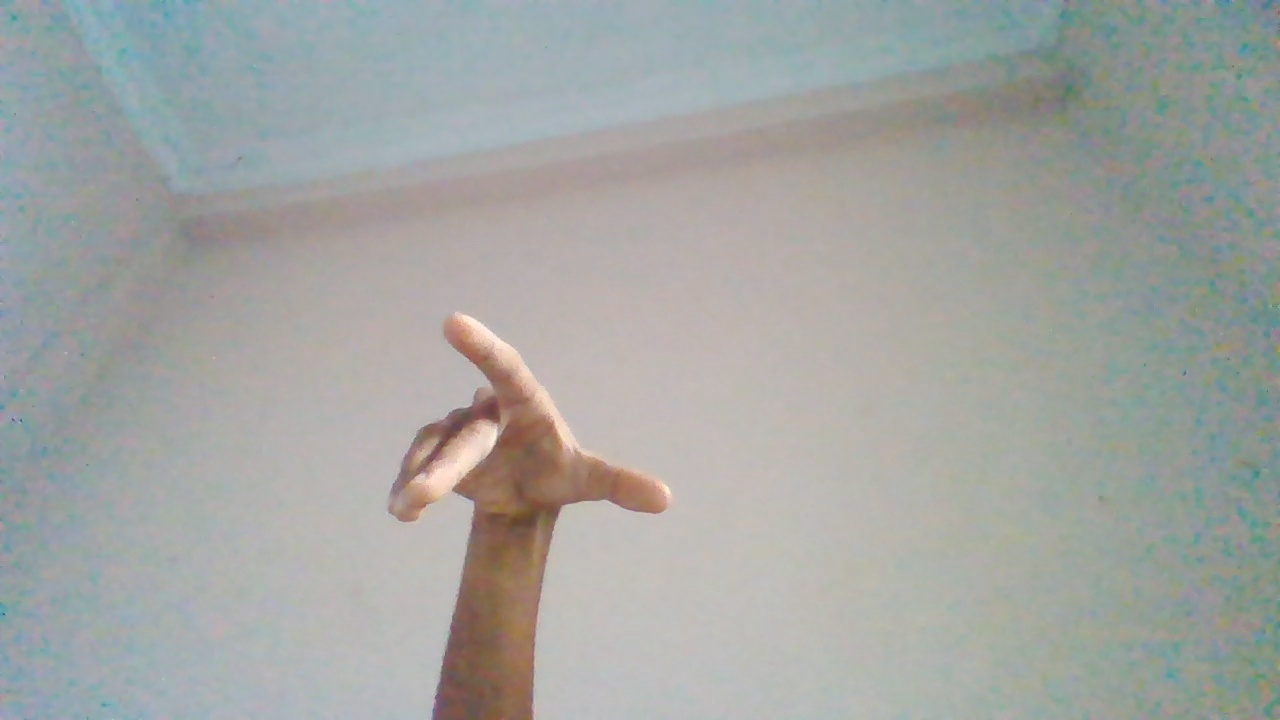ke: (389, 315, 671, 701)
